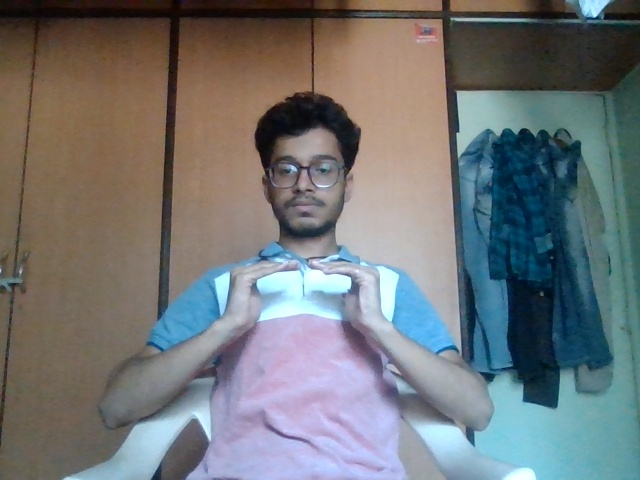afternoon: (210, 249, 416, 361)
